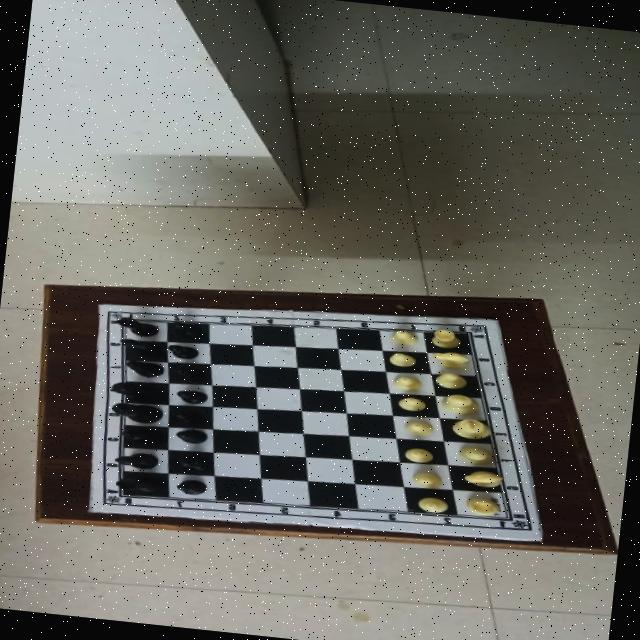corners: (80, 506, 102, 516), (484, 314, 504, 324), (530, 536, 550, 546), (91, 300, 109, 309)
